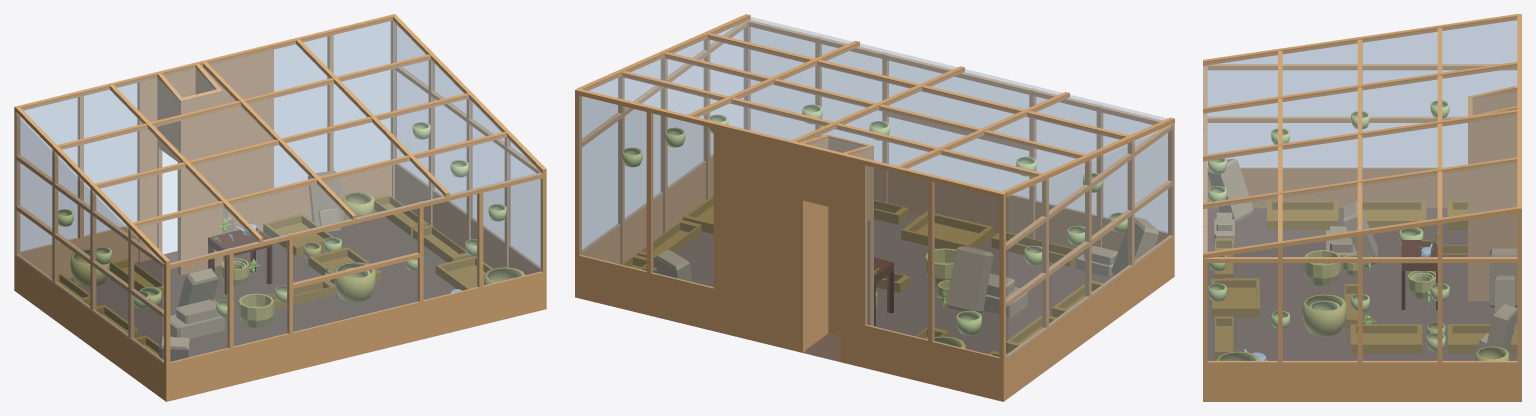
File: S_SerreConcept.glb
3 renders of one model, left to right at view 1: azimuth 30°, elevation 25°; view 2: azimuth 150°, elevation 25°; view 3: azimuth 270°, elevation 25°, orthographic. The views are drawn at different scales.
Visible parts, largest first — view 1: Plane.098, Plane.086, Plane.082, S_Ground.002, Plane.078, Plane.085, Plane.012, Plane.145, Plane.154, Plane.131, Plane.136, Plane.135 (+58 smaller); view 2: Plane.098, Plane.086, Plane.082, Plane.078, Plane.012, Plane.145, Plane.085, S_Ground.002, Plane.131, Plane.127, Plane.128, Plane.144 (+53 smaller); view 3: Plane.098, Plane.085, Plane.082, S_Ground.002, Plane.130, Plane.131, Plane.152, Plane.100, Plane.102, Plane.101, Plane.121, Plane.120 (+41 smaller).
Part boxes in pixels (left/top/right/bottom): Plane.098: left=22, top=18, right=542, bottom=264; Plane.086: left=170, top=173, right=541, bottom=361; Plane.082: left=15, top=112, right=163, bottom=362; S_Ground.002: left=69, top=209, right=455, bottom=356; Plane.078: left=274, top=21, right=391, bottom=187; Plane.085: left=393, top=22, right=540, bottom=269; Plane.012: left=20, top=83, right=138, bottom=250; Plane.145: left=195, top=44, right=273, bottom=232; Plane.154: left=178, top=88, right=222, bottom=274; Plane.131: left=16, top=254, right=163, bottom=399; Plane.136: left=293, top=301, right=419, bottom=370; Plane.135: left=423, top=271, right=542, bottom=338; Plane.098: left=586, top=17, right=1167, bottom=191; Plane.086: left=749, top=21, right=1167, bottom=233; Plane.082: left=1006, top=125, right=1174, bottom=357; Plane.078: left=579, top=96, right=713, bottom=287; Plane.012: left=865, top=165, right=998, bottom=357; Plane.145: left=713, top=122, right=802, bottom=352; Plane.085: left=582, top=25, right=747, bottom=252; S_Ground.002: left=654, top=213, right=1114, bottom=361; Plane.131: left=1006, top=235, right=1172, bottom=399; Plane.127: left=865, top=324, right=999, bottom=400; Plane.128: left=579, top=255, right=713, bottom=330; Plane.144: left=842, top=153, right=867, bottom=367; Plane.098: left=1203, top=18, right=1516, bottom=252; Plane.085: left=1208, top=213, right=1516, bottom=360; Plane.082: left=1208, top=20, right=1516, bottom=166; S_Ground.002: left=1207, top=208, right=1517, bottom=360; Plane.130: left=1207, top=361, right=1517, bottom=401; Plane.131: left=1207, top=167, right=1467, bottom=208; Plane.152: left=1472, top=106, right=1517, bottom=300; Plane.100: left=1203, top=157, right=1517, bottom=208; Plane.102: left=1203, top=62, right=1517, bottom=113; Plane.101: left=1203, top=109, right=1517, bottom=161; Plane.121: left=1203, top=14, right=1517, bottom=65; Plane.120: left=1203, top=207, right=1517, bottom=258.
Bounding box in the file's own units: 7.76 × 3.62 × 5.34.
